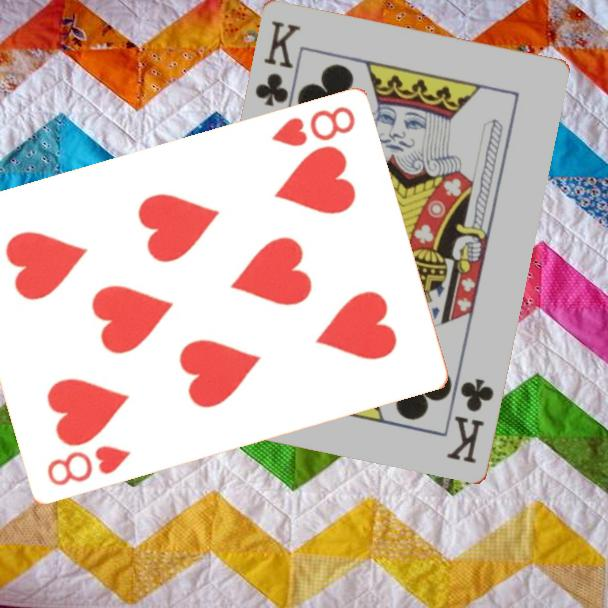c13: (443, 375, 497, 467), (252, 17, 304, 110)
h08: (43, 442, 133, 490), (267, 103, 358, 150)
